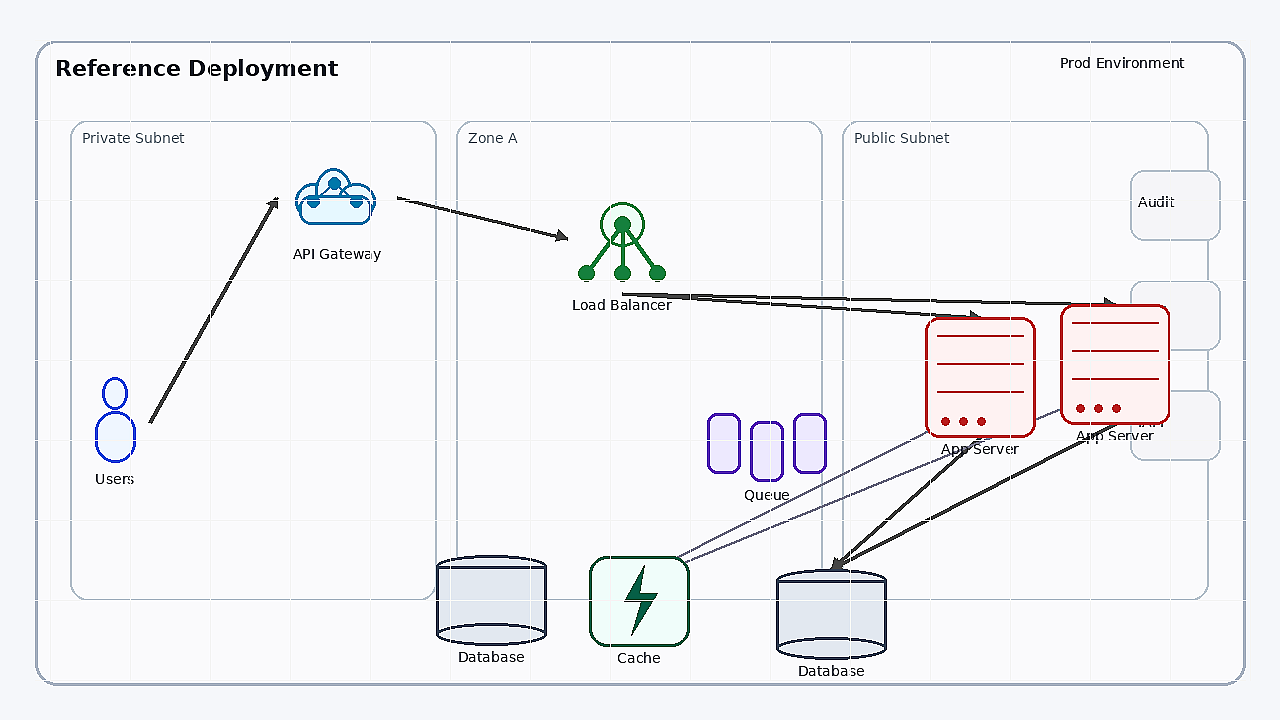API Gateway: (277, 152, 397, 242)
Application Server: (925, 317, 1035, 437), (1060, 304, 1170, 424)
Cache: (589, 556, 689, 646)
Database: (776, 569, 886, 659), (436, 555, 546, 645)
Load Balancer: (567, 183, 677, 293)
Message Queue: (707, 413, 827, 483)
User: (80, 377, 150, 467)
